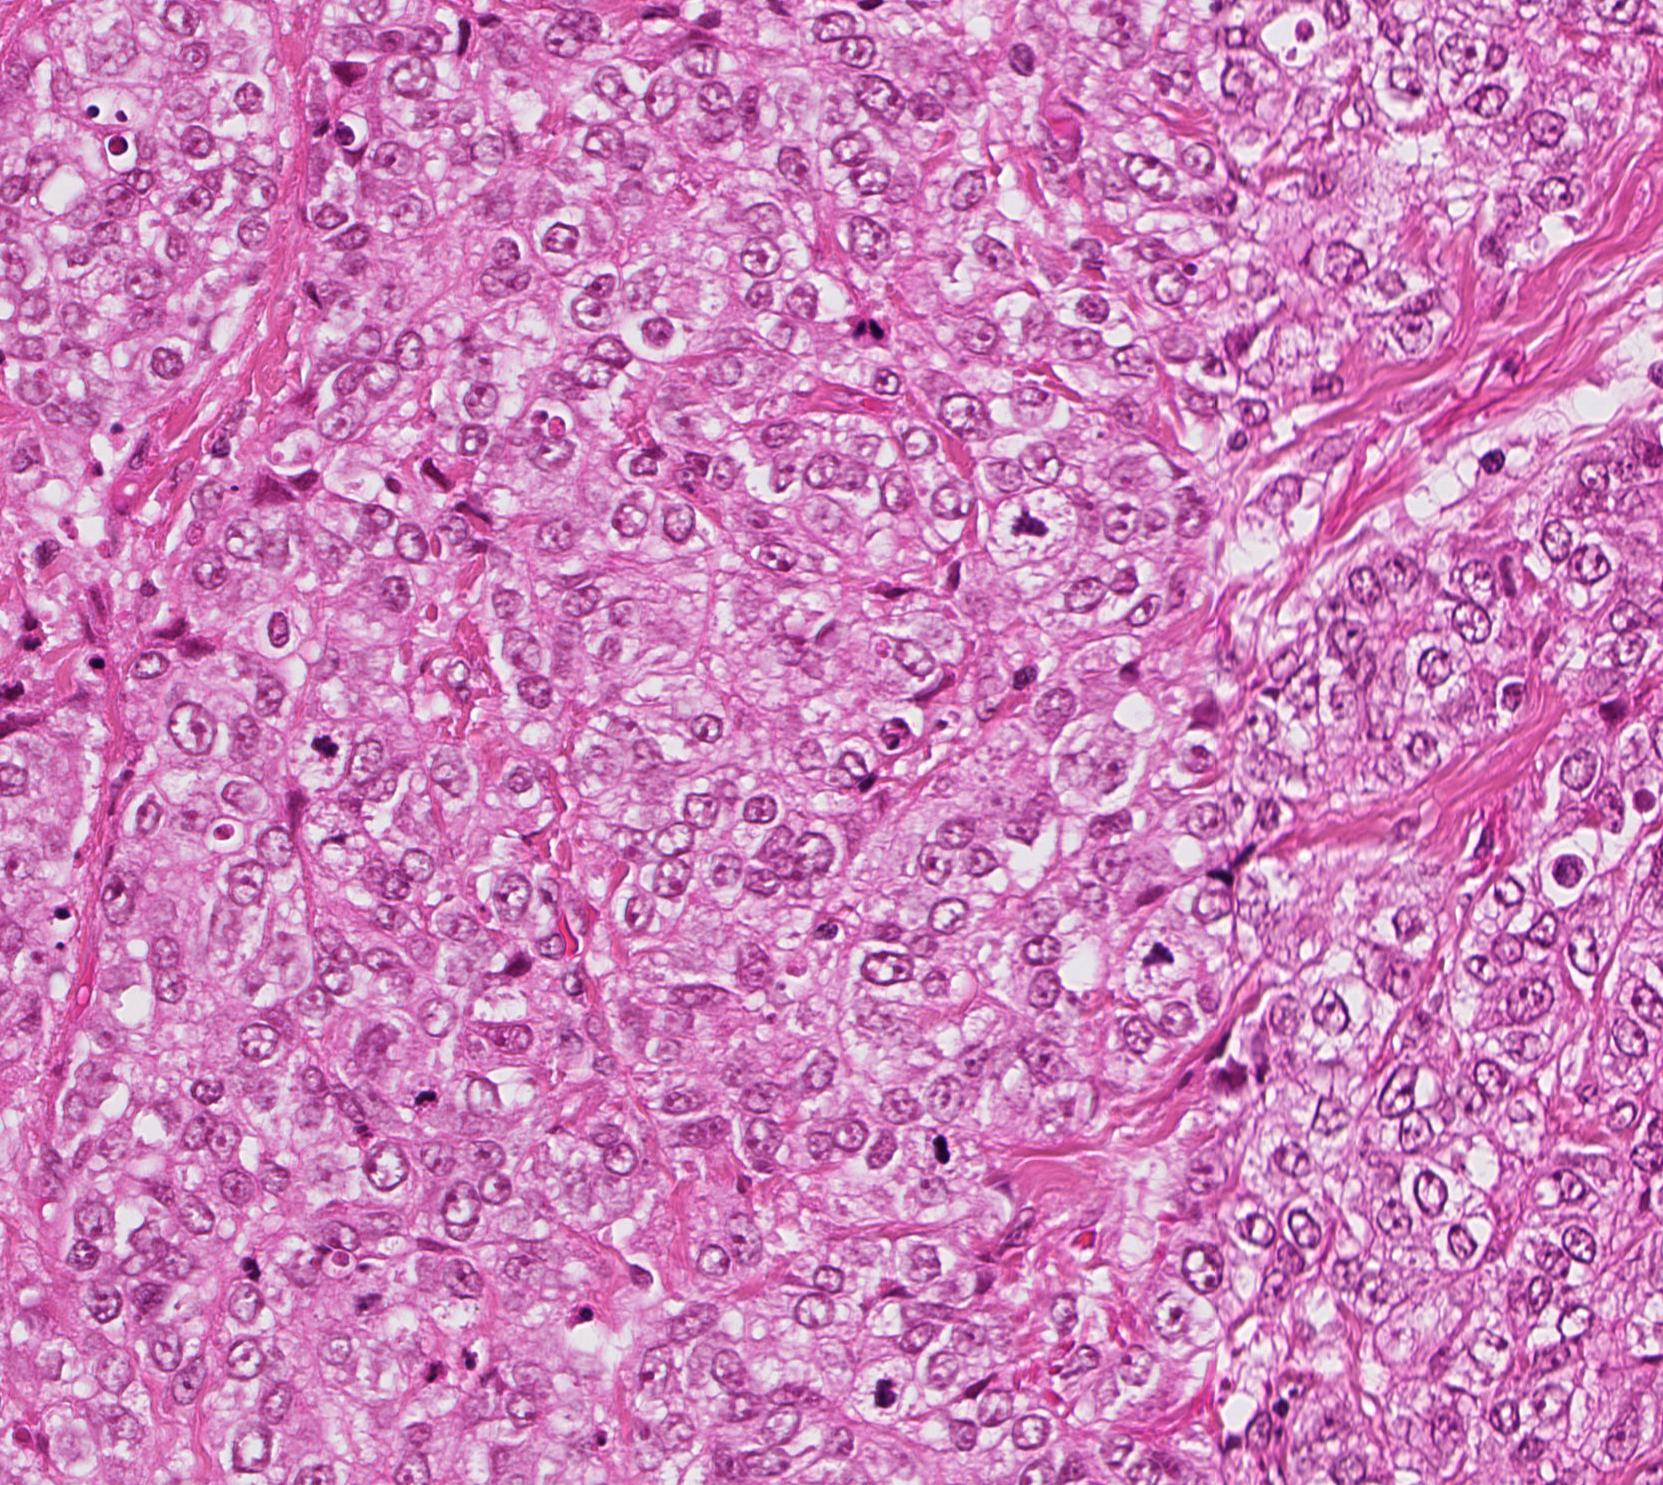mitosis: (999, 492, 1059, 552)
